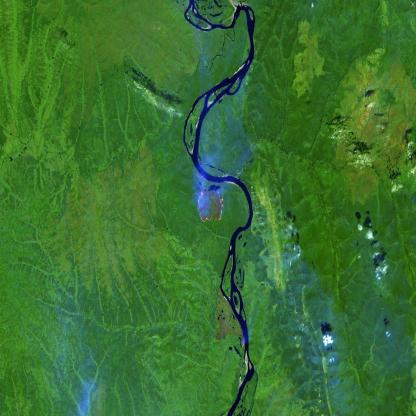fire: (194, 182, 227, 226)
